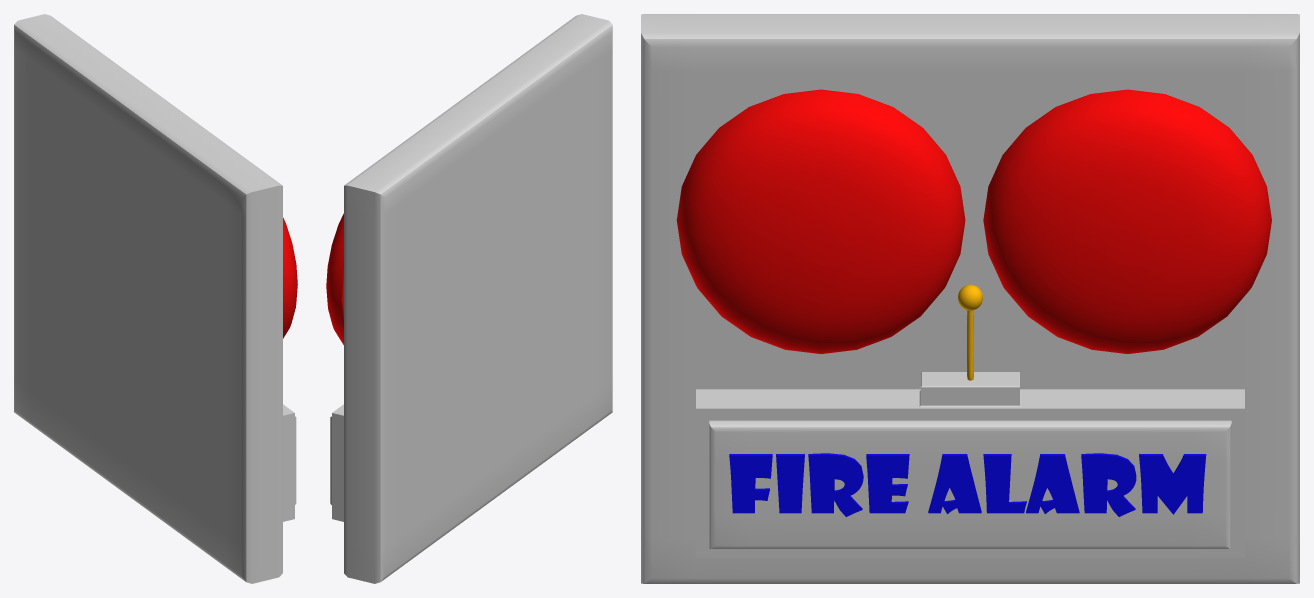
3 renders of one model, left to right at view 1: azimuth 30°, elevation 25°; view 2: azimuth 150°, elevation 25°; view 3: azimuth 270°, elevation 25°, orthographic. The views are drawn at different scales.
Parts seen in each view (by area): view 1: Alarm_Body, Alarm_Bell_Left; view 2: Alarm_Body, Alarm_Bell_Right; view 3: Alarm_Body, Alarm_Bell_Left, Alarm_Bell_Right, Alarm_Text, Alarm_Ringer.
Part boxes in pixels (x1,y1,x2,y2): Alarm_Body: [14, 14, 296, 583]; Alarm_Bell_Left: [283, 217, 297, 338]; Alarm_Body: [330, 14, 612, 583]; Alarm_Bell_Right: [326, 213, 343, 344]; Alarm_Body: [641, 14, 1299, 583]; Alarm_Bell_Left: [676, 89, 965, 353]; Alarm_Bell_Right: [983, 89, 1271, 353]; Alarm_Text: [729, 453, 1206, 516]; Alarm_Ringer: [958, 284, 982, 380].
Size of the model in its own units: 0.4305 by 1.84 by 2.
